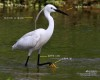ergret: (17, 6, 67, 68)
